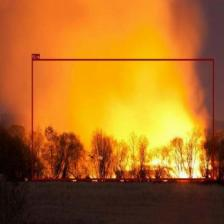fire: (31, 58, 214, 180)
